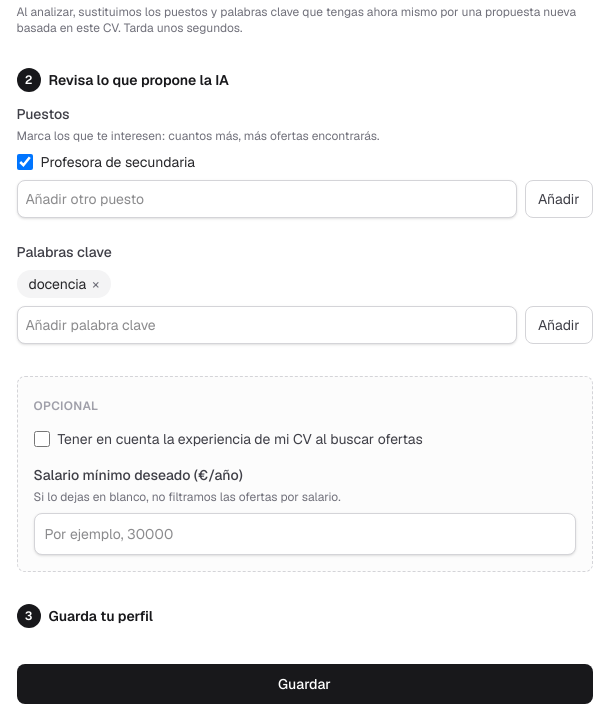
Test: FormularioPerfil — guardar el perfil › al guardar con éxito, muestra la confirmación y el enlace a "Ver mis ofertas"
(page scrolled)
Click the button "Guardar". click: (304, 684)
box: top-left (16, 664), bottom-right (592, 704)
(page scrolled)
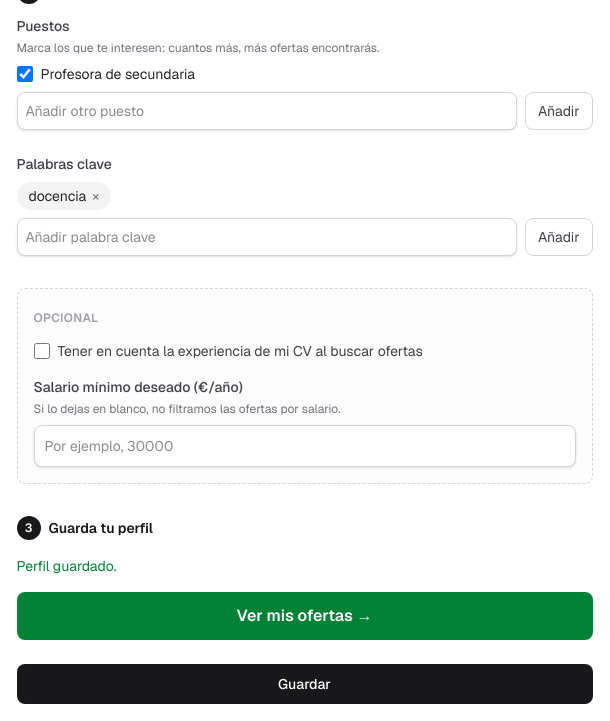
Expected: the text "Perfil guardado." is shown, top-left (16, 556), bottom-right (116, 574)
